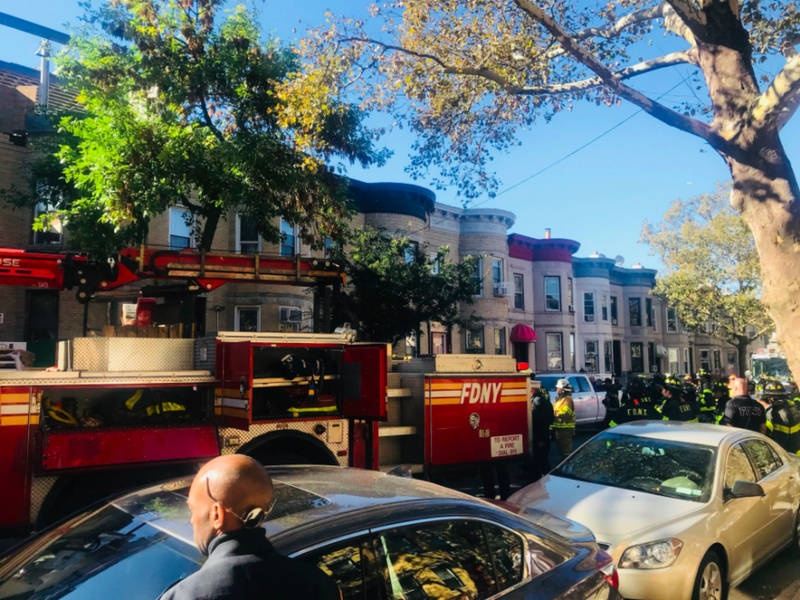none: (174, 446, 284, 555), (728, 376, 748, 397)
white: (552, 376, 572, 398)
